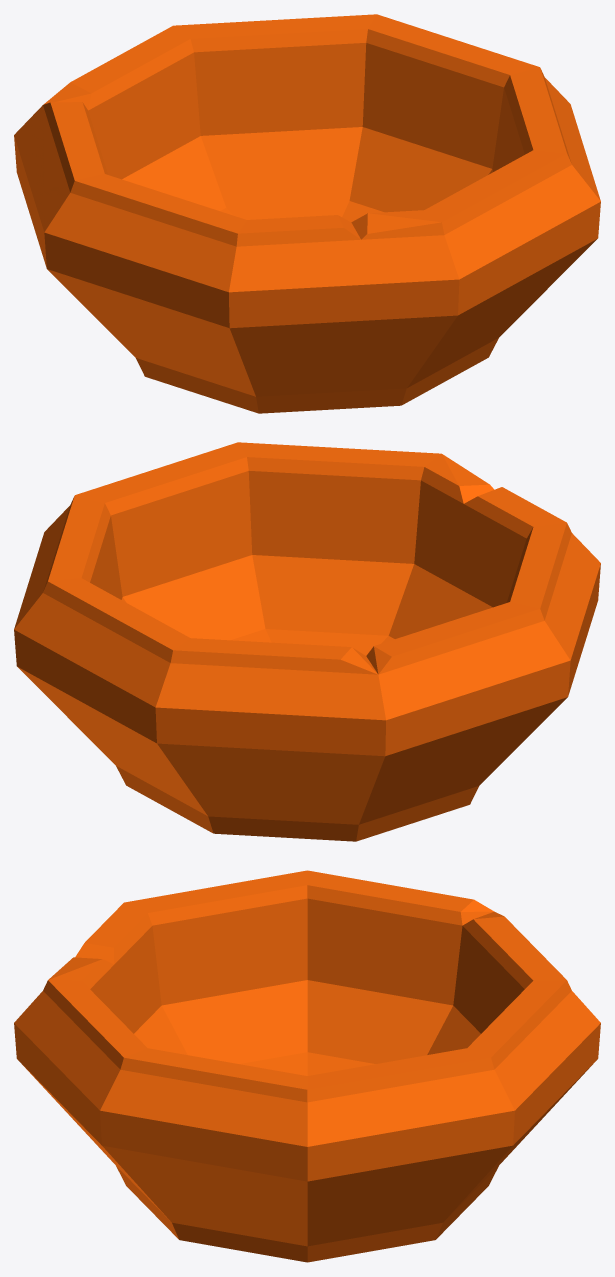
Rendered from mortar-stone-empty.fbx.
3 views of the same model, one above another, from view 1: azimuth 30°, elevation 25°; view 2: azimuth 150°, elevation 25°; view 3: azimuth 270°, elevation 25° (orthographic). The views are drawn at different scales.
Parts seen in each view (by area): view 1: mortar-stone-empty; view 2: mortar-stone-empty; view 3: mortar-stone-empty.
Part boxes in pixels (x1=…): mortar-stone-empty: x1=14, y1=14, x2=600, y2=413; mortar-stone-empty: x1=14, y1=442, x2=600, y2=841; mortar-stone-empty: x1=14, y1=870, x2=600, y2=1262.
Bounding box in the file's own units: 255 × 98.67 × 255.
